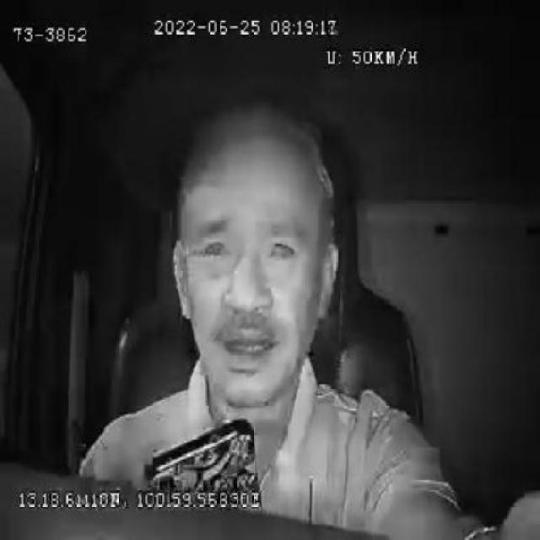phone: (146, 415, 259, 487)
